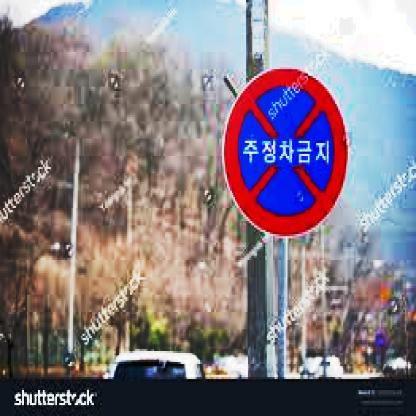No stopping: (219, 68, 345, 248)
